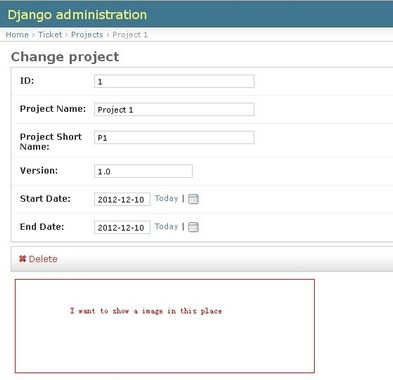_form_: (1, 1, 393, 380)
field: (93, 74, 256, 89), (93, 130, 256, 145), (93, 102, 255, 117), (94, 163, 194, 179), (93, 191, 152, 207), (92, 219, 151, 235)
